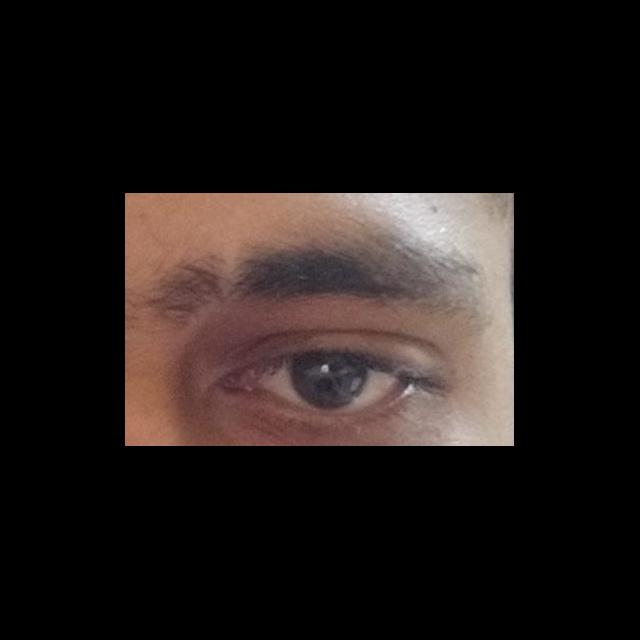eye: (255, 351, 404, 417)
iris: (287, 355, 370, 410)
